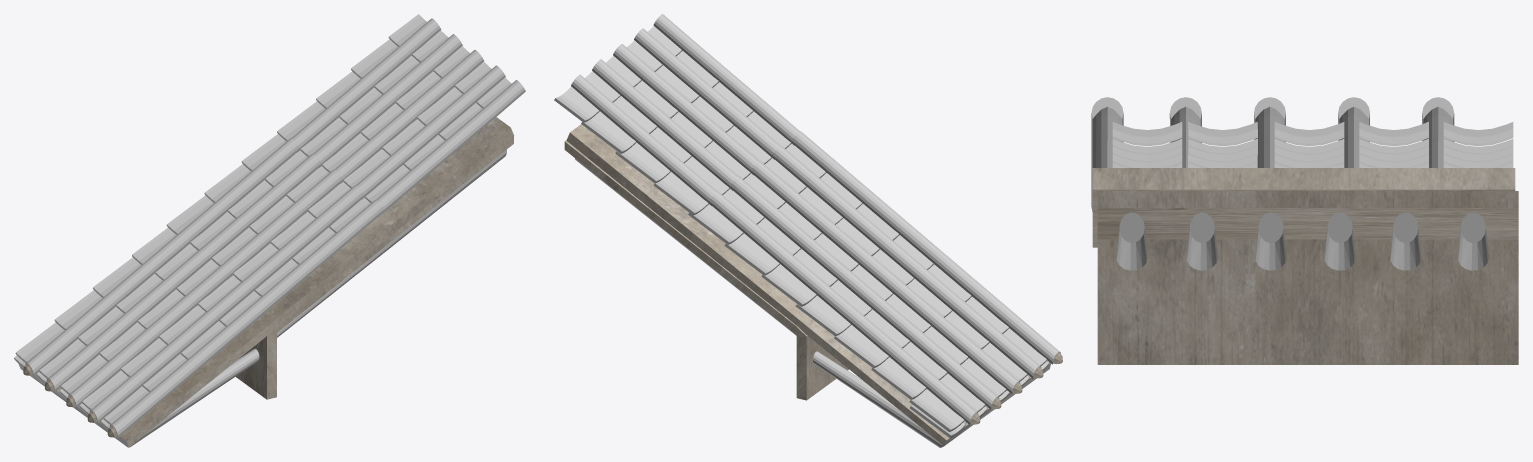
The model's file is SM_Roof_63.fbx.
3 renders of one model, left to right at view 1: azimuth 30°, elevation 25°; view 2: azimuth 150°, elevation 25°; view 3: azimuth 270°, elevation 25°, orthographic. The views are drawn at different scales.
Visible parts, largest first — view 1: SM_Roof_63; view 2: SM_Roof_63; view 3: SM_Roof_63.
Part boxes in pixels (x1,y1,x2,y2): SM_Roof_63: (14, 14, 525, 447); SM_Roof_63: (554, 14, 1062, 447); SM_Roof_63: (1091, 97, 1518, 364).
Size of the model in its own units: 490 by 222 by 314.
